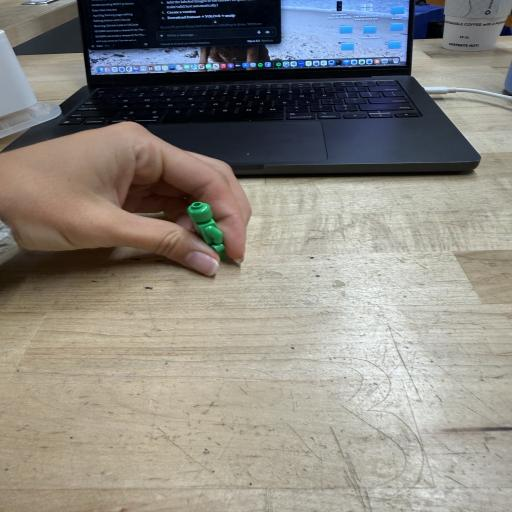green-minifig: (205, 226, 222, 244)
